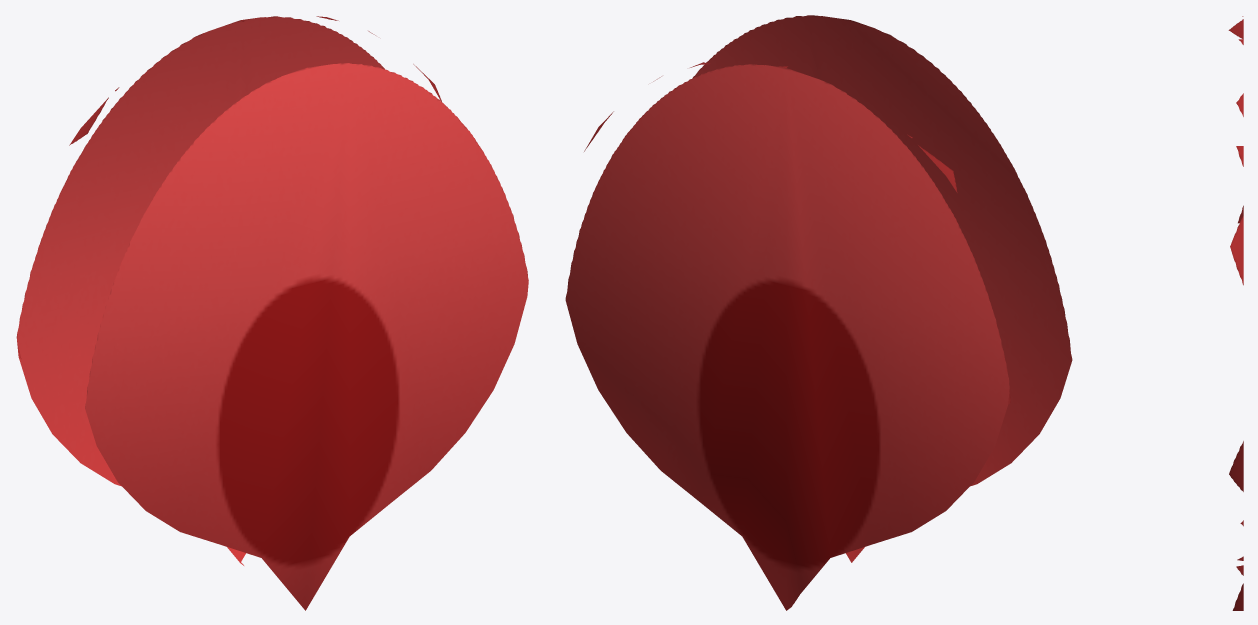
Rendered from camera.obj.
The picture shows the model from 3 angles, left to right: view 1: azimuth 30°, elevation 25°; view 2: azimuth 150°, elevation 25°; view 3: azimuth 270°, elevation 25°; orthographic projection. The views are drawn at different scales.
Parts seen in each view (by area): view 1: Cylinder; view 2: Cylinder; view 3: Cylinder.
Part boxes in pixels (x1,y1,x2,y2): Cylinder: (16, 16, 528, 610); Cylinder: (565, 15, 1072, 610); Cylinder: (1228, 16, 1243, 610).
Bounding box in the file's own units: 2 × 2.29 × 0.5.
